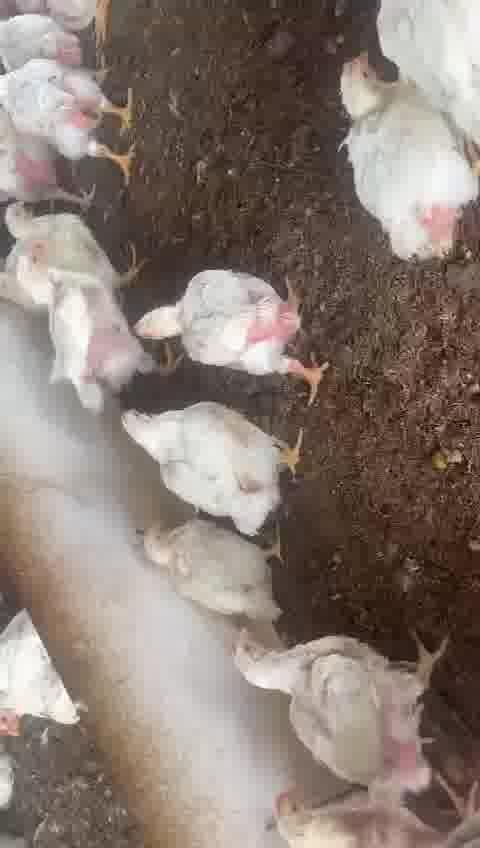AbNormal: (120, 496, 287, 628), (255, 774, 437, 848)
Normal: (229, 620, 447, 792), (313, 45, 468, 264), (112, 267, 330, 389), (118, 399, 309, 525), (21, 259, 153, 393), (0, 70, 155, 181), (0, 198, 115, 283)
